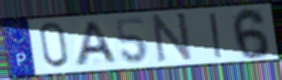0: (38, 21, 72, 72)
5: (114, 14, 151, 66)
6: (230, 6, 273, 61)
A: (73, 20, 121, 68)
I: (207, 11, 225, 60)
N: (151, 11, 194, 65)
